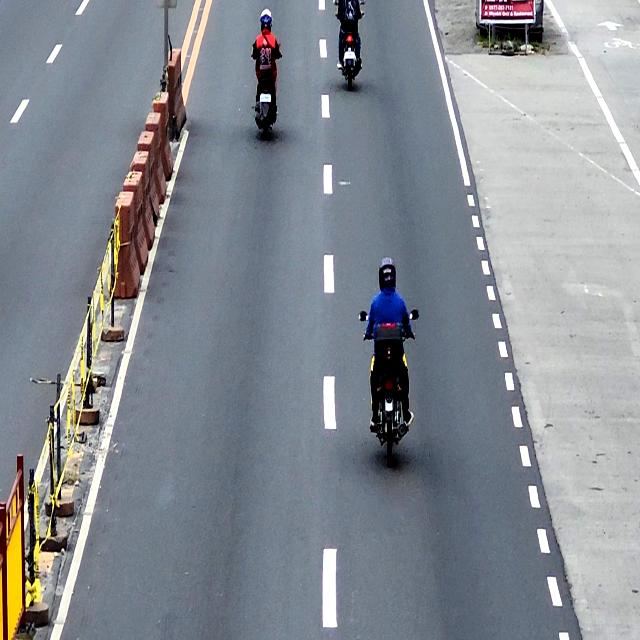License-Plate: (344, 50, 356, 60), (260, 93, 271, 103)
Motorcycle: (361, 305, 419, 468), (252, 42, 282, 140), (337, 9, 363, 92)
